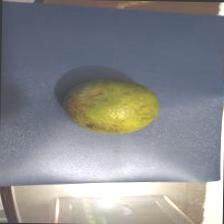Orange Rotten: (52, 68, 163, 147)
